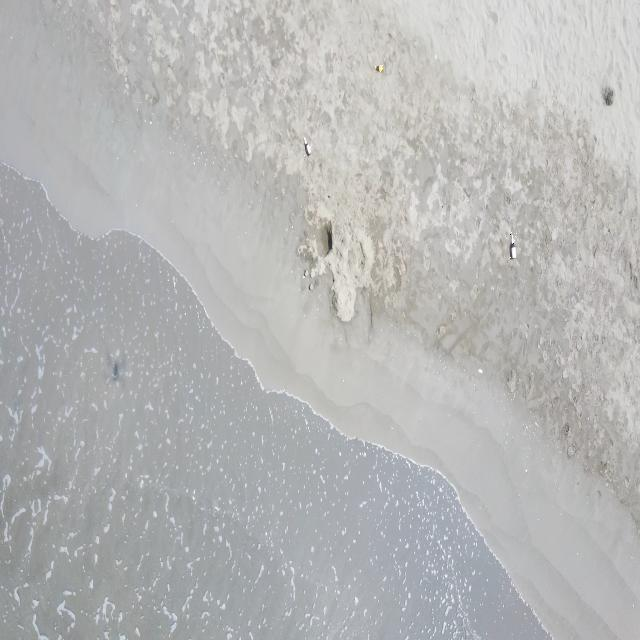glass: (510, 232, 517, 260), (303, 137, 311, 157), (374, 62, 384, 72)
